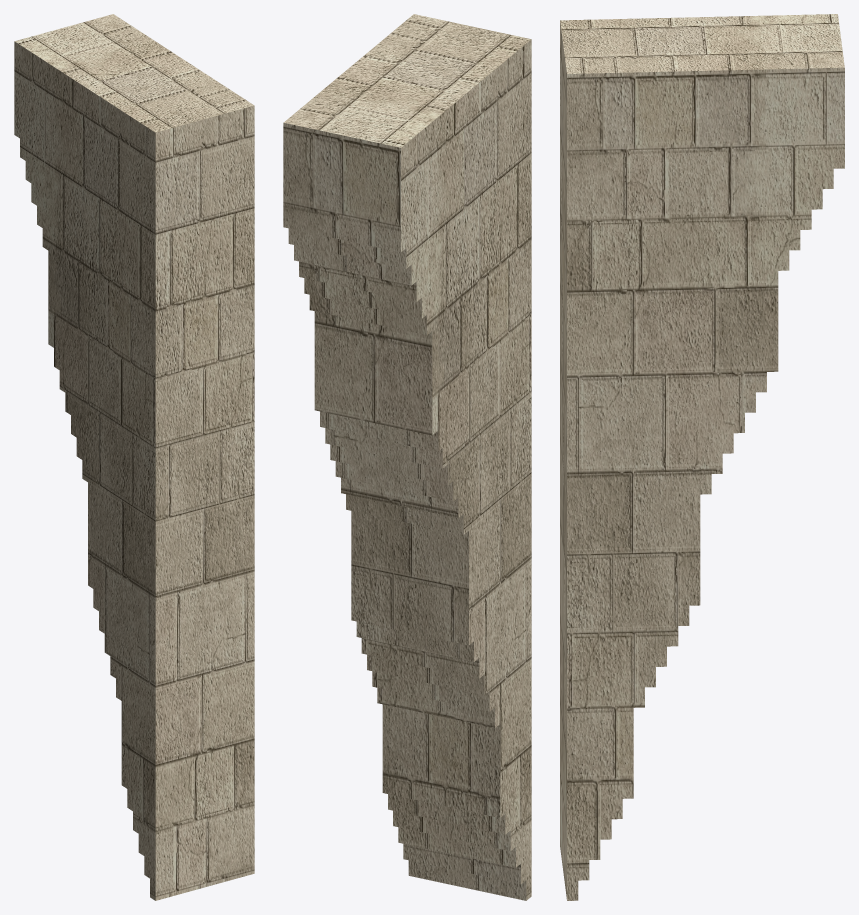
Rendered from walls_125.fbx.
3 views of the same model, side by side, from view 1: azimuth 30°, elevation 25°; view 2: azimuth 150°, elevation 25°; view 3: azimuth 270°, elevation 25° (orthographic). The views are drawn at different scales.
Parts seen in each view (by area): view 1: walls_125; view 2: walls_125; view 3: walls_125.
Boxes of the visible parts, bbox=[...] form: walls_125: bbox=[14, 14, 254, 900]; walls_125: bbox=[283, 14, 531, 900]; walls_125: bbox=[560, 14, 844, 900].
Size of the model in its own units: 40.25 by 259 by 80.66.
